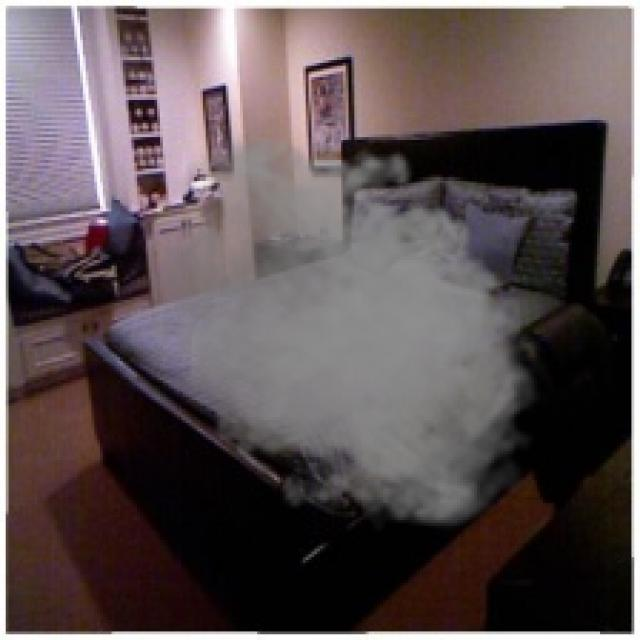smoke: (128, 123, 548, 534)
